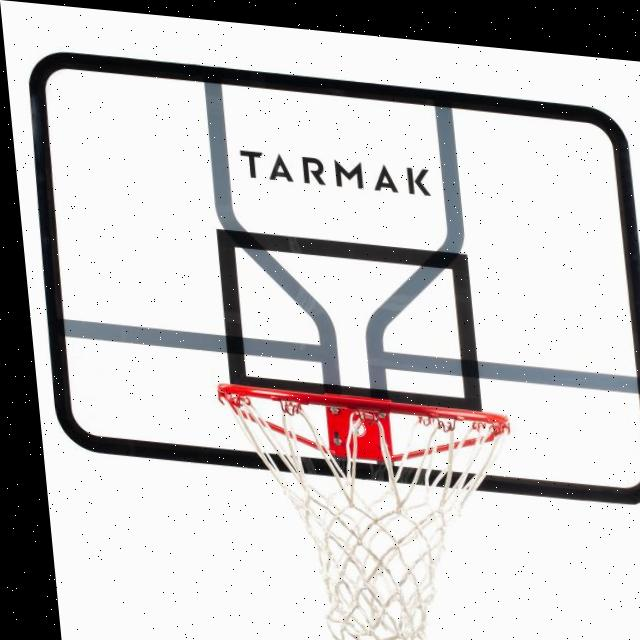hoop: (218, 382, 533, 640)
